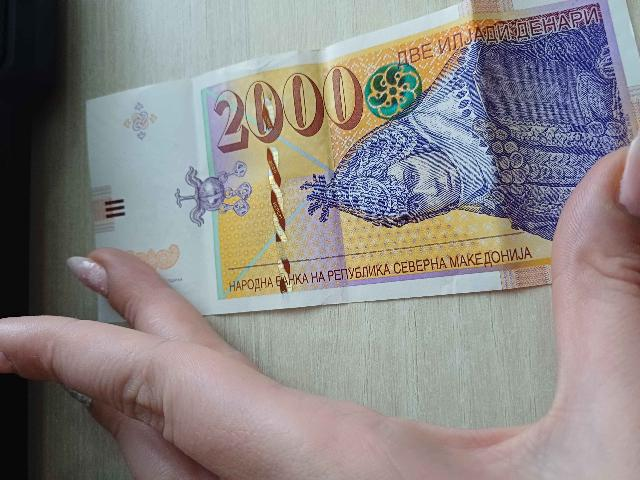2000_note: (81, 0, 639, 315)
